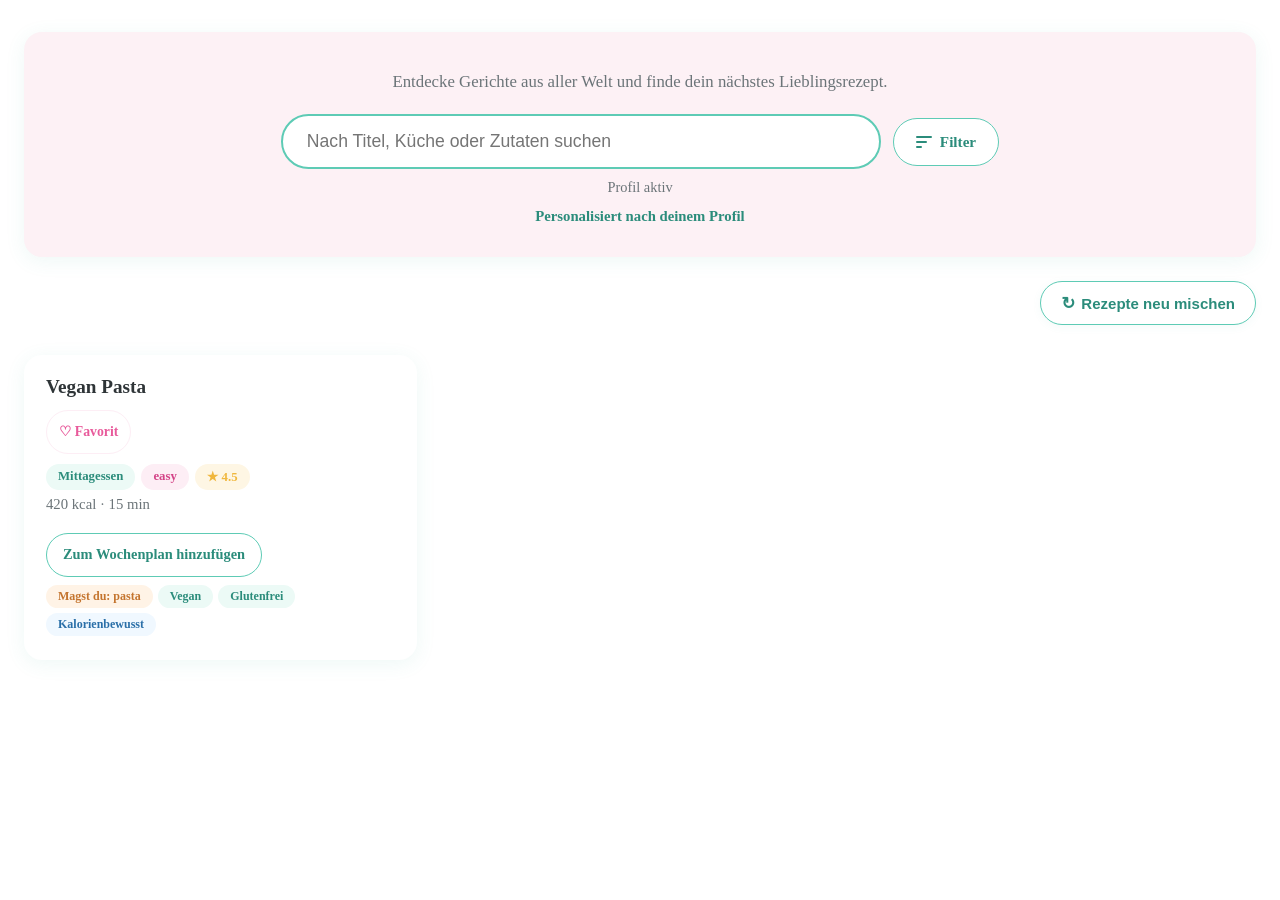
Test: ApiRecipeList.vue › disables soft profile personalization but keeps allergies and dislikes active
Expected: the text "Chicken Rice" is not shown
Click the button with class "filter-trigger": {"x": 946, "y": 142} [893,118,999,166]
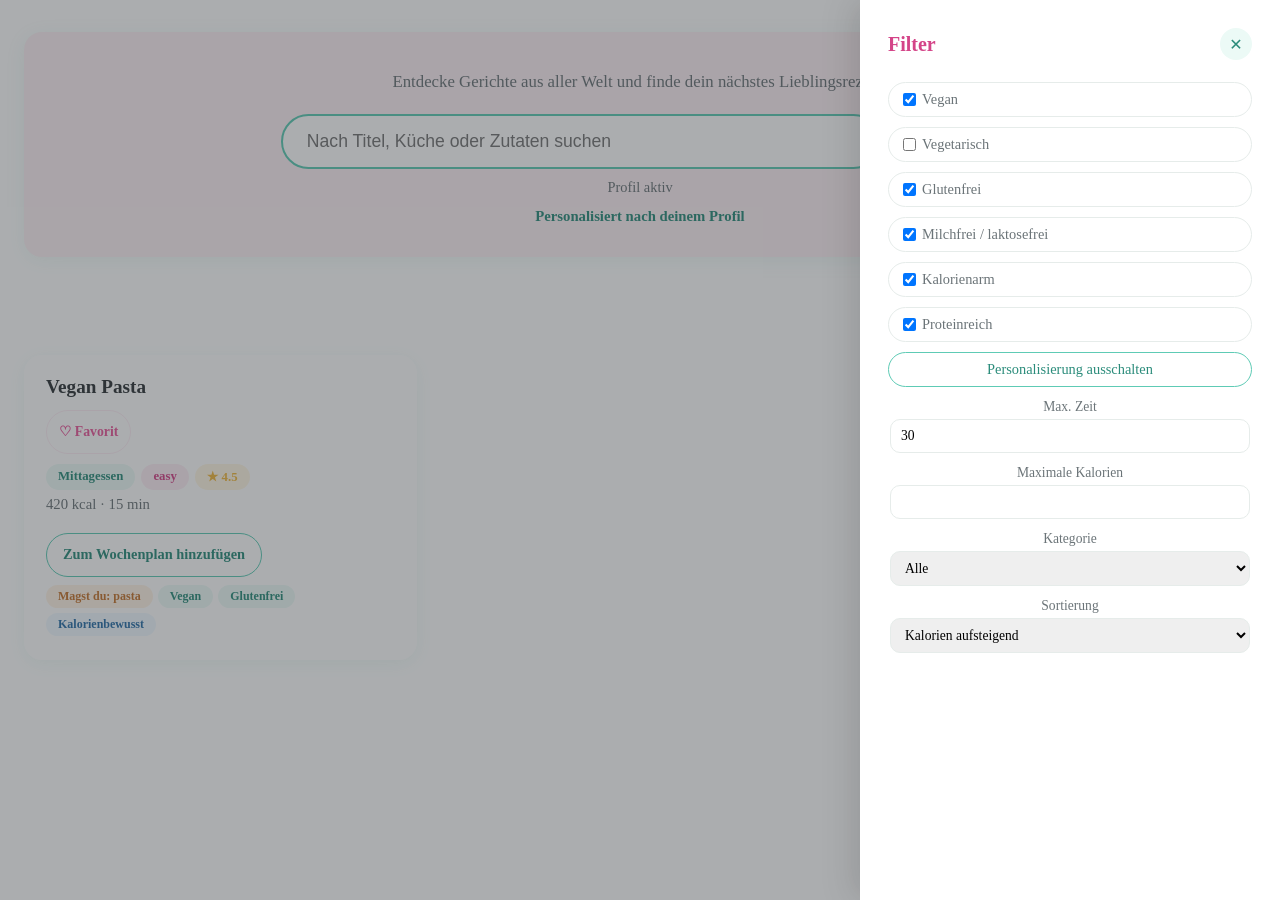
Click the button "Personalisierung ausschalten": {"x": 1070, "y": 370} [888,352,1252,387]
Wait 400 ms
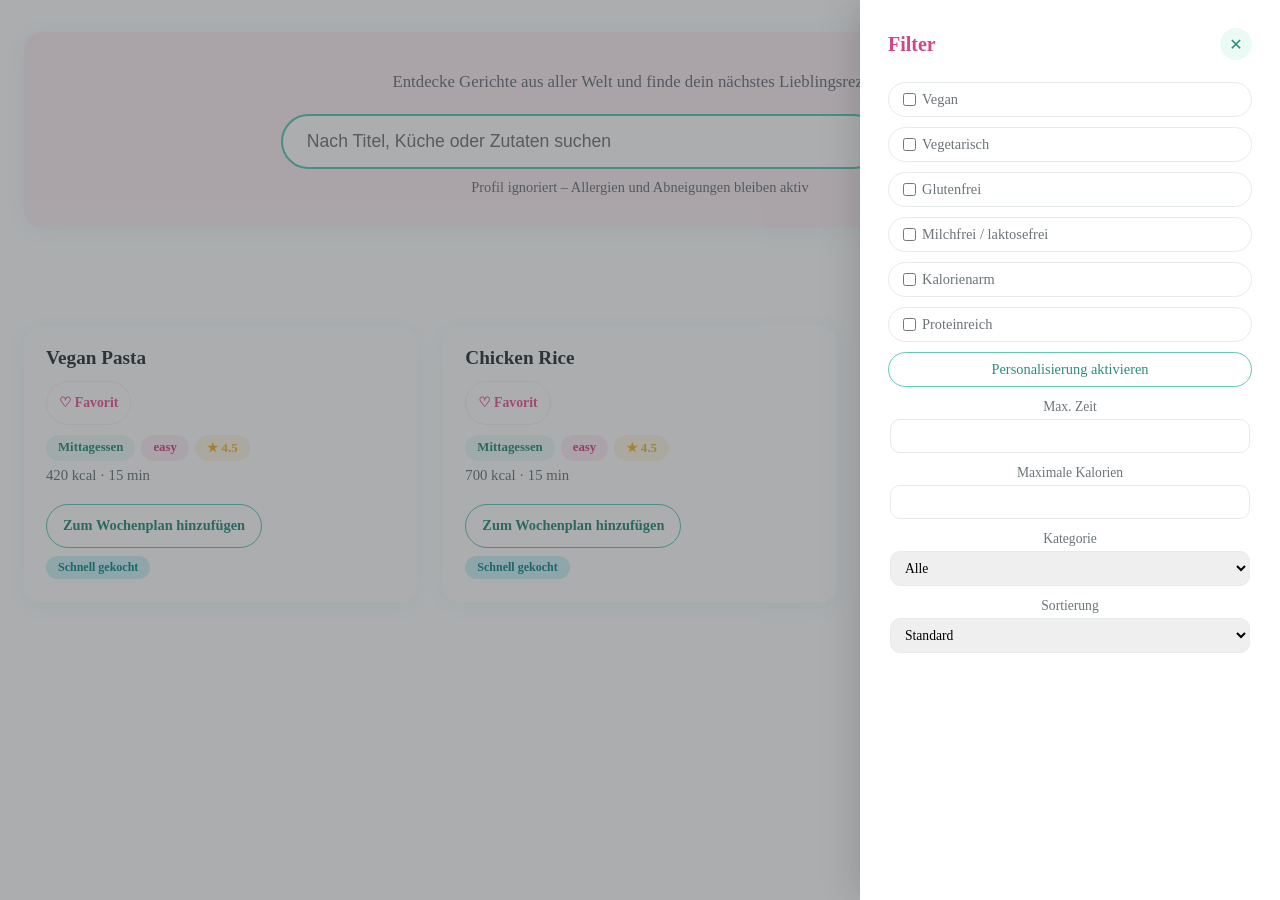
Result: the text "Chicken Rice" is shown at [465,347,575,368]
